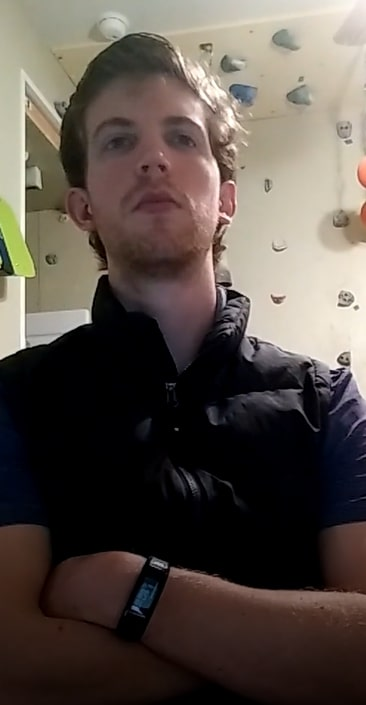Not Sleeping: (89, 114, 206, 162)
